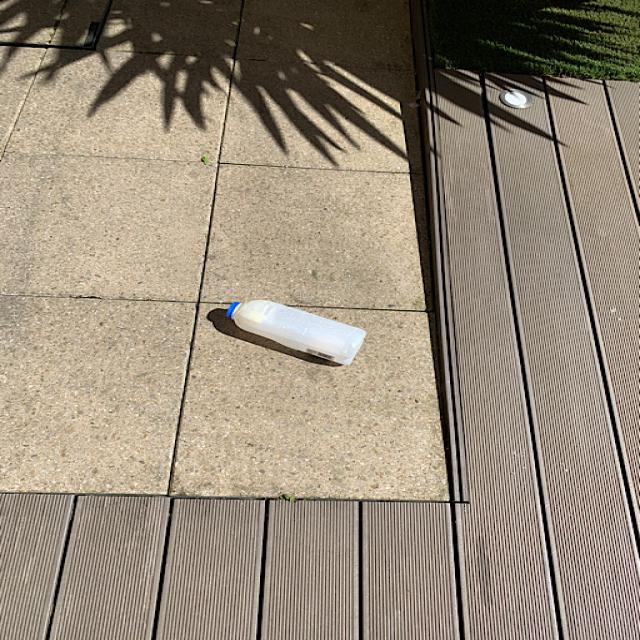litter: (217, 297, 375, 367)
